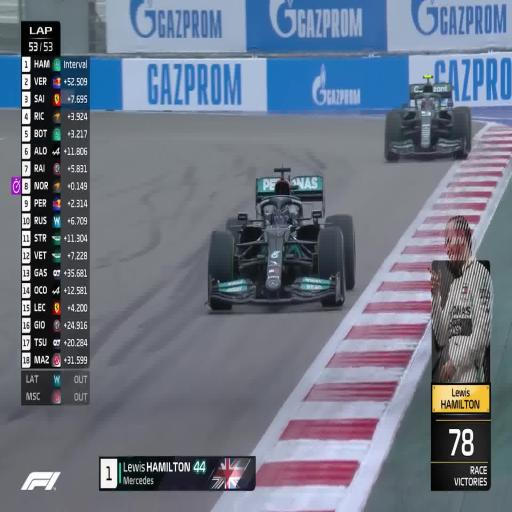f1_car: (207, 168, 355, 310), (385, 75, 471, 161)
